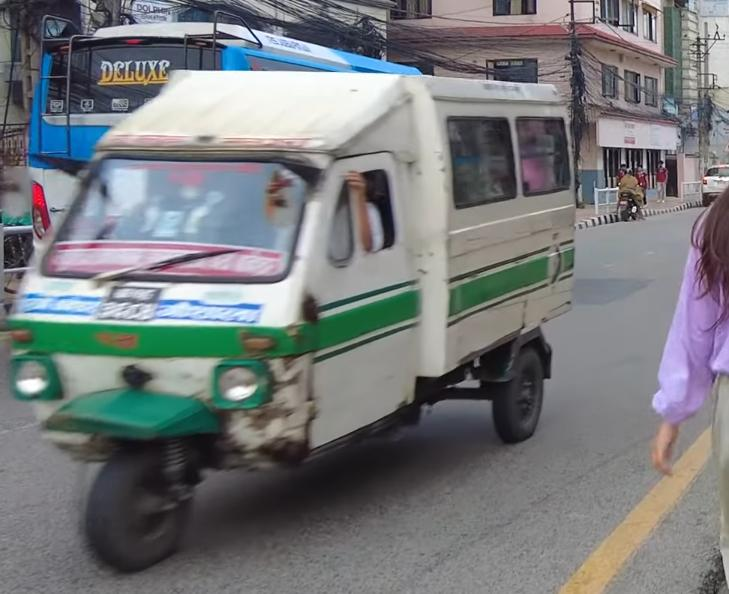bike: (615, 185, 643, 228)
car: (700, 161, 729, 205)
tempo: (15, 61, 585, 581)
